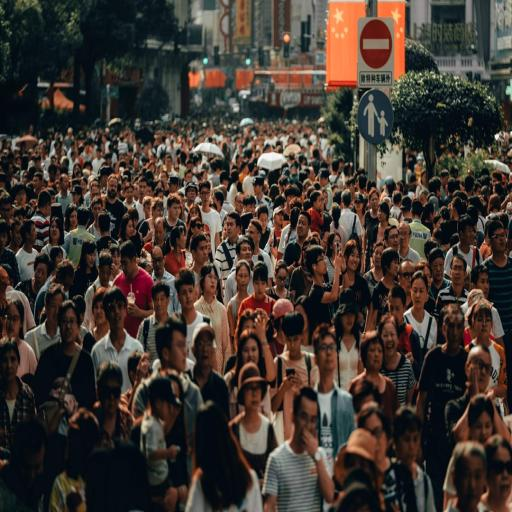face: (489, 452, 512, 498), (457, 463, 482, 504), (469, 351, 492, 388), (298, 402, 318, 444), (401, 427, 422, 463), (319, 339, 340, 374), (59, 311, 80, 345), (108, 301, 128, 330), (364, 344, 384, 373), (102, 382, 120, 413), (473, 418, 494, 444), (244, 385, 263, 411), (198, 338, 214, 368), (174, 336, 188, 370), (2, 353, 18, 380), (493, 226, 509, 253), (476, 312, 493, 336), (180, 285, 196, 310), (7, 308, 21, 336), (412, 280, 426, 308), (383, 330, 397, 357), (432, 257, 446, 281), (243, 344, 258, 365), (348, 250, 361, 274), (93, 303, 107, 325), (153, 294, 167, 316), (453, 262, 466, 285), (152, 252, 164, 276), (206, 272, 218, 296), (403, 265, 414, 291), (161, 401, 174, 421), (240, 244, 253, 264), (480, 275, 491, 298), (238, 270, 250, 291), (400, 223, 410, 248), (122, 261, 135, 280), (198, 243, 209, 264), (99, 266, 111, 285), (253, 280, 266, 297), (34, 267, 46, 285), (388, 232, 400, 250), (344, 312, 356, 330), (225, 220, 236, 239), (11, 228, 23, 245), (108, 180, 118, 200), (201, 187, 211, 206), (298, 218, 308, 237), (287, 339, 300, 353), (154, 226, 164, 244), (50, 222, 60, 240), (186, 186, 198, 201), (319, 256, 329, 274), (2, 203, 11, 222), (112, 252, 122, 269), (85, 252, 96, 267), (170, 203, 181, 218), (391, 258, 400, 276), (374, 248, 383, 266), (92, 204, 102, 220), (138, 183, 147, 199), (467, 228, 476, 244), (260, 216, 270, 230), (126, 188, 134, 205), (237, 197, 245, 213), (69, 214, 78, 228), (276, 214, 286, 226), (128, 221, 135, 238), (63, 176, 70, 193), (377, 210, 385, 223), (32, 226, 37, 246), (17, 190, 25, 202), (33, 178, 41, 190), (370, 198, 378, 210)
